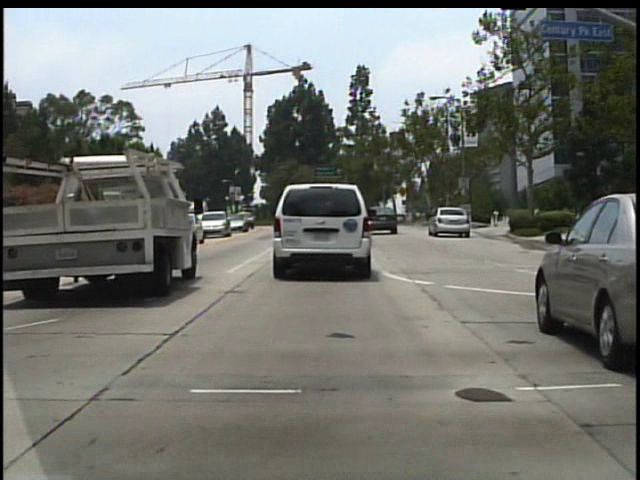person: (409, 198, 420, 226)
